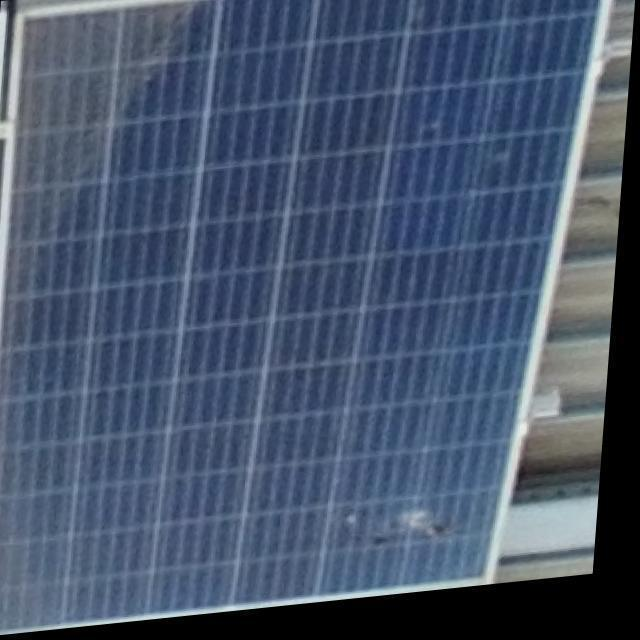Surface Contaminant: (5, 0, 215, 631), (383, 493, 454, 556)
